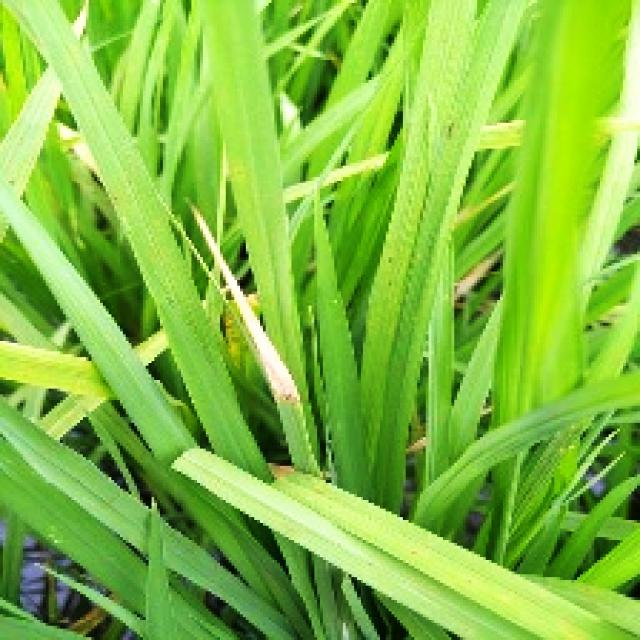health: (80, 0, 640, 514)
